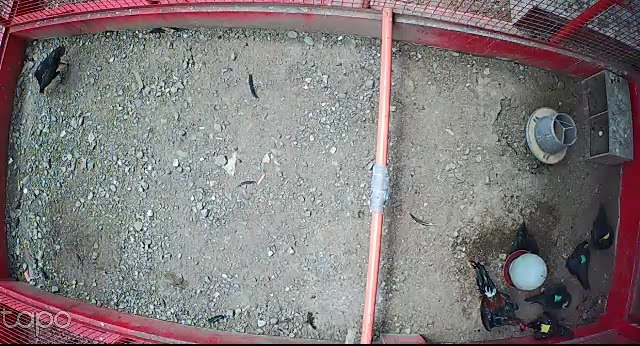Chicken: (31, 41, 76, 98), (585, 203, 619, 259), (560, 238, 594, 290), (522, 283, 573, 313), (508, 222, 545, 260), (524, 315, 575, 342)
Drinker: (499, 248, 551, 293)
Rooster: (466, 256, 529, 338)
Saddle_Color_Green: (580, 254, 586, 264)
Saddle_Color_Yellow: (539, 324, 550, 333)
